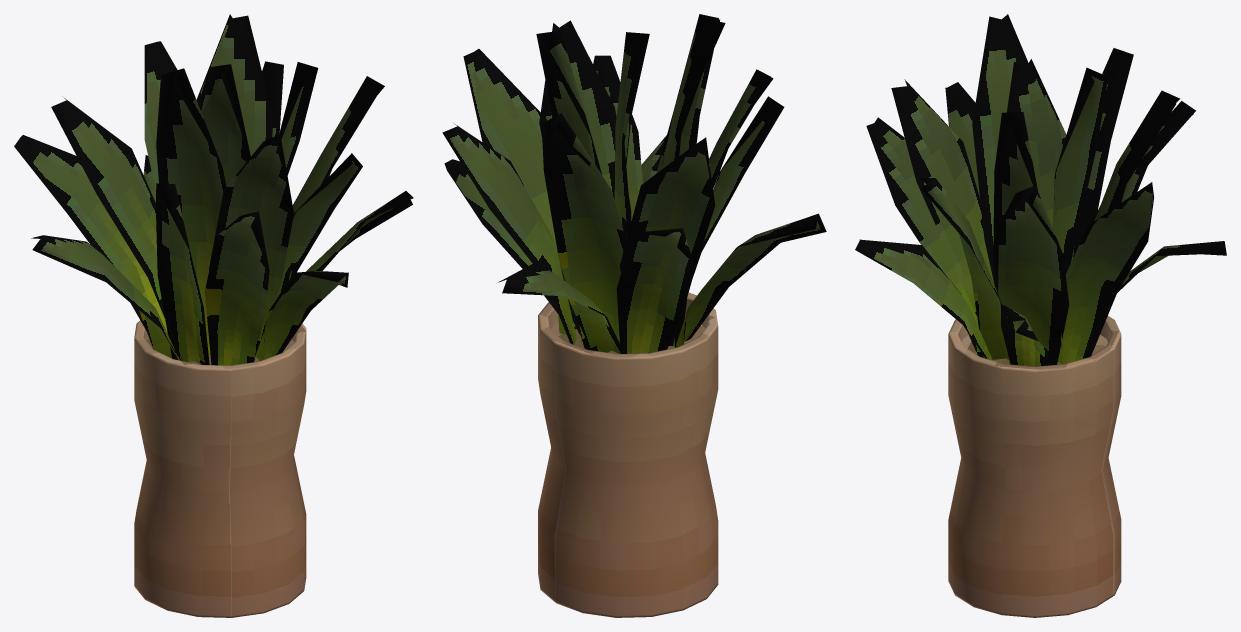
File: a_com_house_a01_plant05.gltf
3 views of the same model, side by side, from view 1: azimuth 30°, elevation 25°; view 2: azimuth 150°, elevation 25°; view 3: azimuth 270°, elevation 25° (orthographic). The views are drawn at different scales.
Visible parts, largest first — view 1: um_a_com_house_a01_plant05_model_a_com_house_a01_plant05_mod (×2); view 2: um_a_com_house_a01_plant05_model_a_com_house_a01_plant05_mod (×2); view 3: um_a_com_house_a01_plant05_model_a_com_house_a01_plant05_mod (×2).
Part boxes in pixels (<box>): um_a_com_house_a01_plant05_model_a_com_house_a01_plant05_mod (×2): <box>14,14,413,617</box>; um_a_com_house_a01_plant05_model_a_com_house_a01_plant05_mod (×2): <box>442,14,826,617</box>; um_a_com_house_a01_plant05_model_a_com_house_a01_plant05_mod (×2): <box>855,14,1226,617</box>.
Bounding box in the file's own units: 1 × 1.38 × 0.8694.
Materials: 2 (2 with a texture image).
